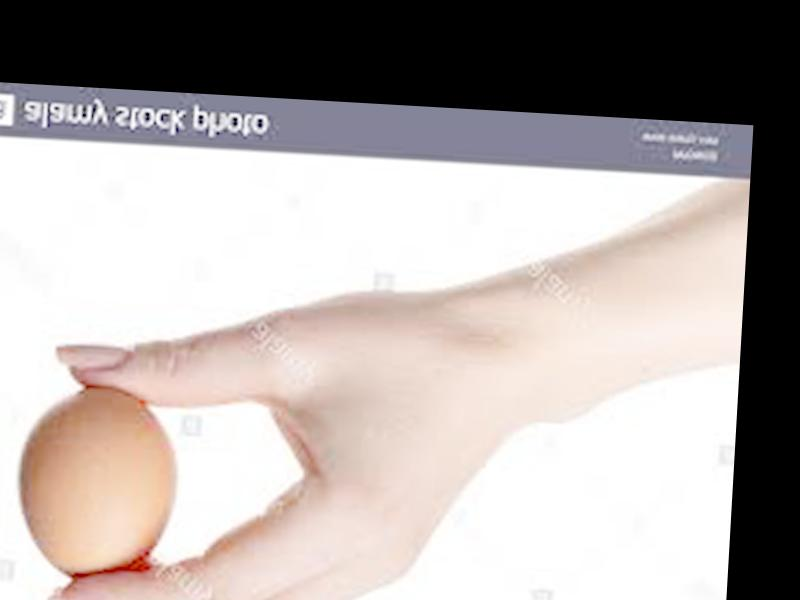Eggs: (11, 383, 188, 583)
